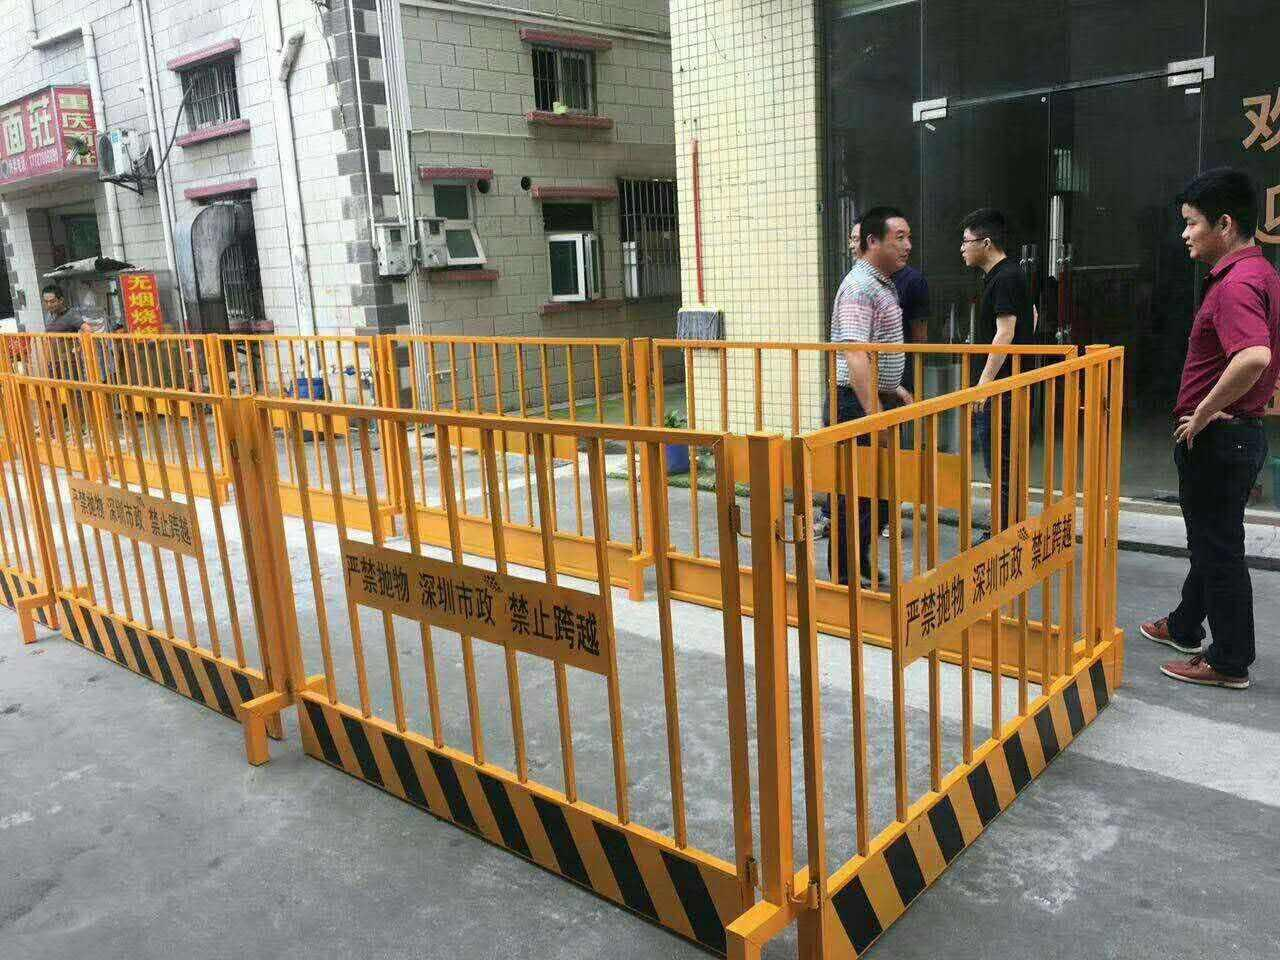sign: (33, 325, 1160, 949)
